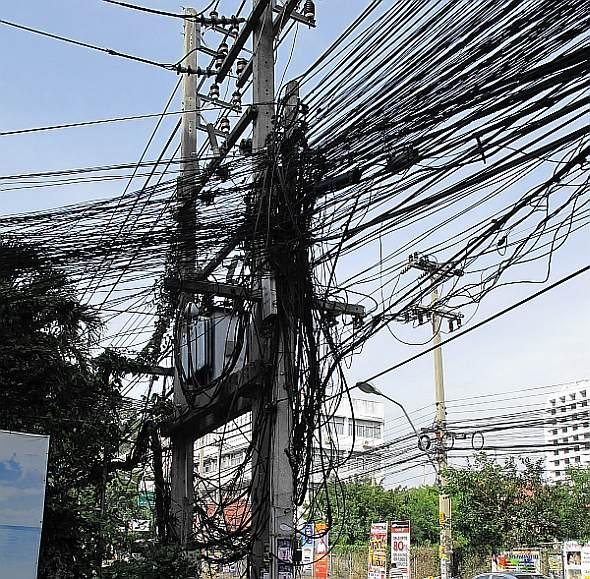wires: (307, 0, 590, 405)
